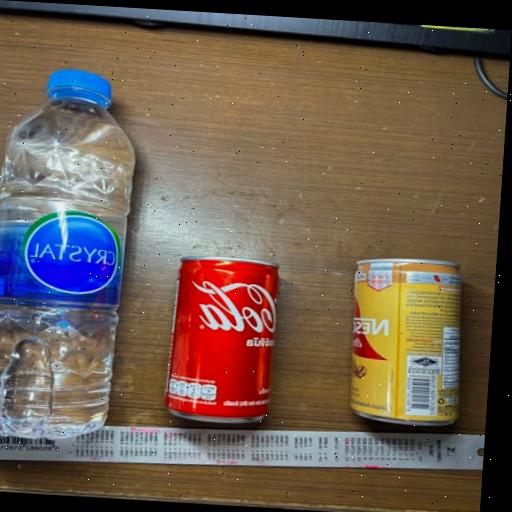bottle: (0, 49, 157, 457)
canned: (311, 222, 482, 451), (127, 231, 293, 444)
